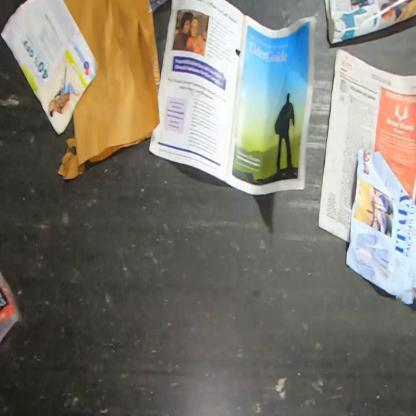soft_plastic: (0, 263, 24, 349)
